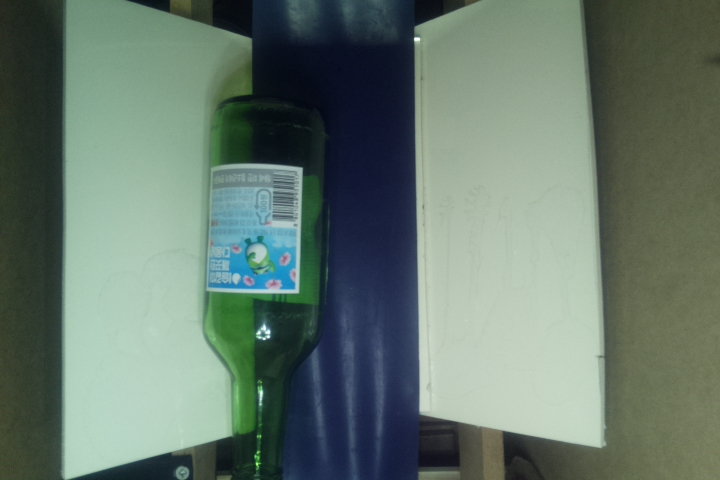soju: (209, 98, 335, 480)
